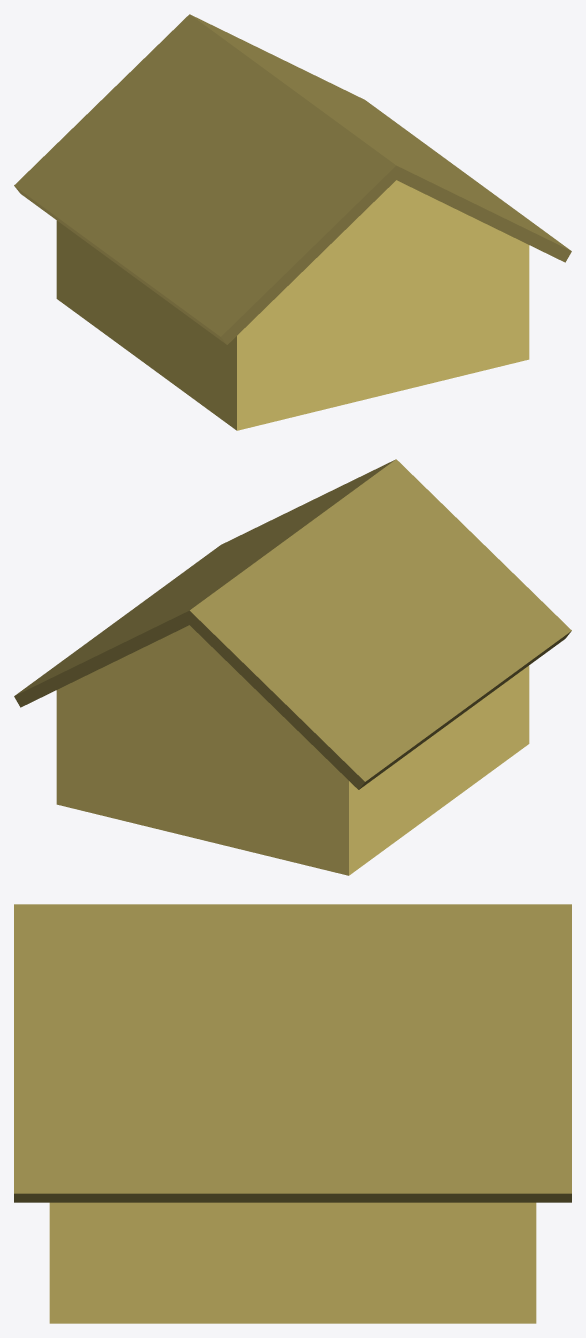
The model's file is result.glb.
3 renders of one model, top to bottom at view 1: azimuth 30°, elevation 25°; view 2: azimuth 150°, elevation 25°; view 3: azimuth 270°, elevation 25°, orthographic. The views are drawn at different scales.
Visible parts, largest first — view 1: 00accb19-dc0b-4f5c-ac86-ecd9c12a4857__undefined (×2), b34e756c-7784-4abb-a5a6-f444fef890c5__undefined; view 2: 00accb19-dc0b-4f5c-ac86-ecd9c12a4857__undefined (×2), b34e756c-7784-4abb-a5a6-f444fef890c5__undefined; view 3: 00accb19-dc0b-4f5c-ac86-ecd9c12a4857__undefined, b34e756c-7784-4abb-a5a6-f444fef890c5__undefined.
Part boxes in pixels (left/top/right/bottom): 00accb19-dc0b-4f5c-ac86-ecd9c12a4857__undefined (×2): left=14, top=14, right=571, bottom=344; b34e756c-7784-4abb-a5a6-f444fef890c5__undefined: left=56, top=180, right=529, bottom=430; 00accb19-dc0b-4f5c-ac86-ecd9c12a4857__undefined (×2): left=14, top=459, right=571, bottom=789; b34e756c-7784-4abb-a5a6-f444fef890c5__undefined: left=56, top=625, right=529, bottom=875; 00accb19-dc0b-4f5c-ac86-ecd9c12a4857__undefined: left=14, top=904, right=571, bottom=1202; b34e756c-7784-4abb-a5a6-f444fef890c5__undefined: left=49, top=1202, right=536, bottom=1323.
Bounding box in the file's own units: 768 × 500 × 783.
